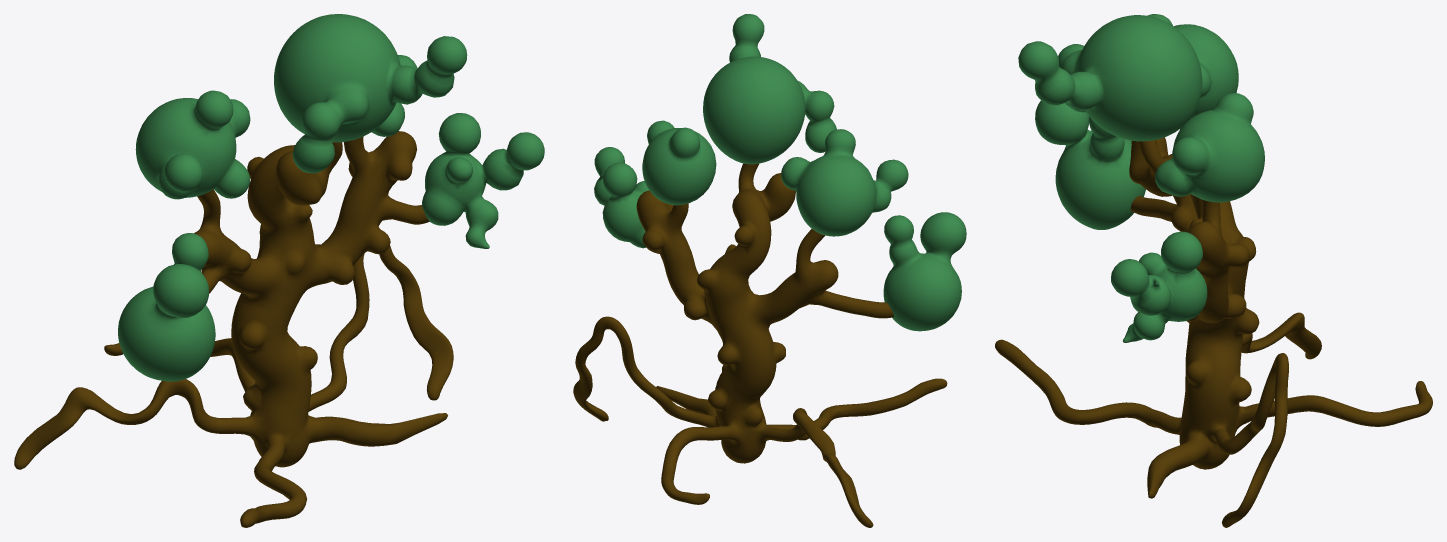
Rendered from tree.glb.
The picture shows the model from 3 angles, left to right: view 1: azimuth 30°, elevation 25°; view 2: azimuth 150°, elevation 25°; view 3: azimuth 270°, elevation 25°; orthographic projection. The views are drawn at different scales.
Visible parts, largest first — view 1: inst_4, inst_3.001; view 2: inst_3.001, inst_4; view 3: inst_3.001, inst_4.
Boxes of the visible parts, x1=… form: inst_4: x1=14, y1=131, x2=453, y2=527; inst_3.001: x1=118, y1=14, x2=544, y2=381; inst_3.001: x1=594, y1=14, x2=966, y2=331; inst_4: x1=573, y1=163, x2=947, y2=527; inst_3.001: x1=1018, y1=14, x2=1264, y2=342; inst_4: x1=995, y1=137, x2=1432, y2=527.
Size of the model in its own units: 72.68 by 75.27 by 64.67.
